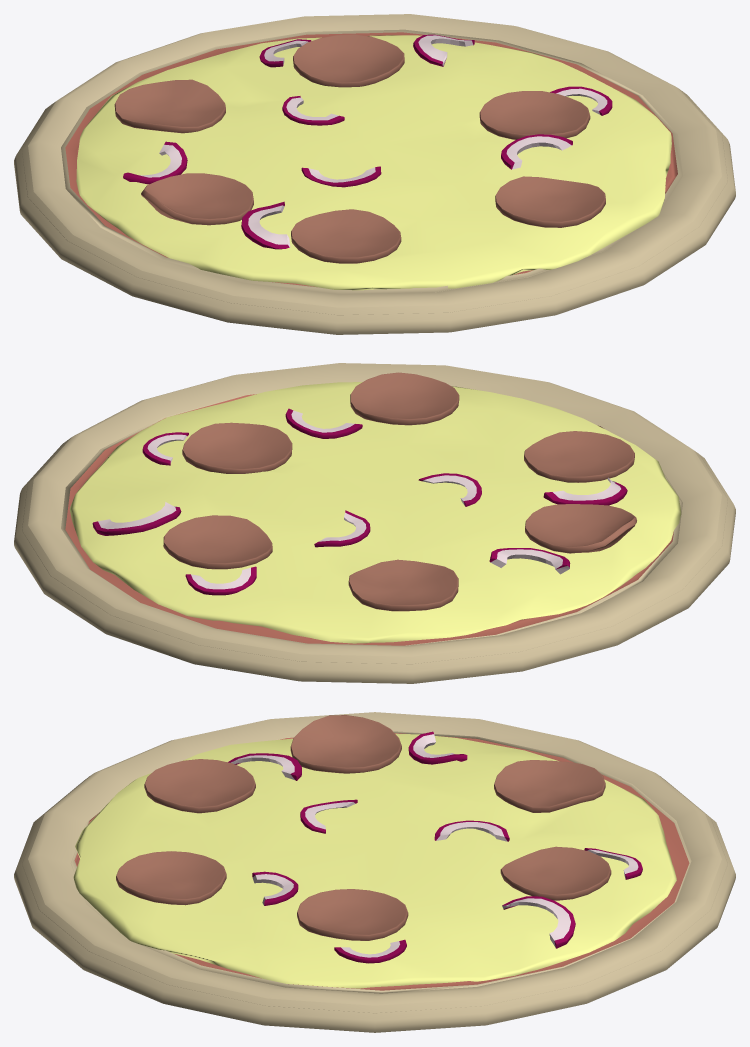
The model's file is thin_onion_sausage.gltf.
3 views of the same model, one above another, from view 1: azimuth 30°, elevation 25°; view 2: azimuth 150°, elevation 25°; view 3: azimuth 270°, elevation 25° (orthographic).
Parts seen in each view (by area): view 1: cheese, thin, polySurface145, polySurface143, polySurface147, polySurface146, polySurface144, polySurface142, polySurface210, polySurface209, polySurface214, polySurface215 (+4 smaller); view 2: cheese, thin, polySurface147, polySurface142, polySurface145, polySurface144, polySurface143, polySurface146, polySurface215, polySurface214, polySurface210, polySurface208 (+4 smaller); view 3: cheese, thin, polySurface146, polySurface144, polySurface143, polySurface142, polySurface145, polySurface147, polySurface215, polySurface214, polySurface209, polySurface210 (+4 smaller).
Boxes of the visible parts, x1,y1,x2,y2 form: cheese: (76,35,671,290); thin: (14,14,735,334); polySurface145: (114,79,225,133); polySurface143: (291,209,401,263); polySurface147: (293,34,404,87); polySurface146: (141,173,253,225); polySurface144: (495,176,605,227); polySurface142: (479,91,590,139); polySurface210: (241,201,290,249); polySurface209: (501,134,572,169); polySurface214: (123,141,187,184); polySurface215: (413,34,474,66); cheese: (69,382,681,643); thin: (14,363,735,683); polySurface147: (163,515,272,569); polySurface142: (182,422,292,473); polySurface145: (348,559,458,611); polySurface144: (350,372,459,425); polySurface143: (524,431,634,482); polySurface146: (525,504,636,553); polySurface215: (92,502,181,535); polySurface214: (489,548,570,574); polySurface210: (543,477,627,505); polySurface208: (185,566,256,595); cheese: (73,733,676,988); thin: (14,712,735,1032); polySurface146: (290,715,401,773); polySurface144: (116,851,226,905); polySurface143: (144,759,255,813); polySurface142: (297,889,408,940); polySurface145: (494,760,605,812); polySurface147: (500,846,611,900); polySurface215: (502,896,575,948); polySurface214: (408,731,467,764); polySurface209: (252,871,298,905); polySurface210: (228,753,301,780).
Size of the model in its own units: 0.0974 by 0.0078 by 0.0974.
